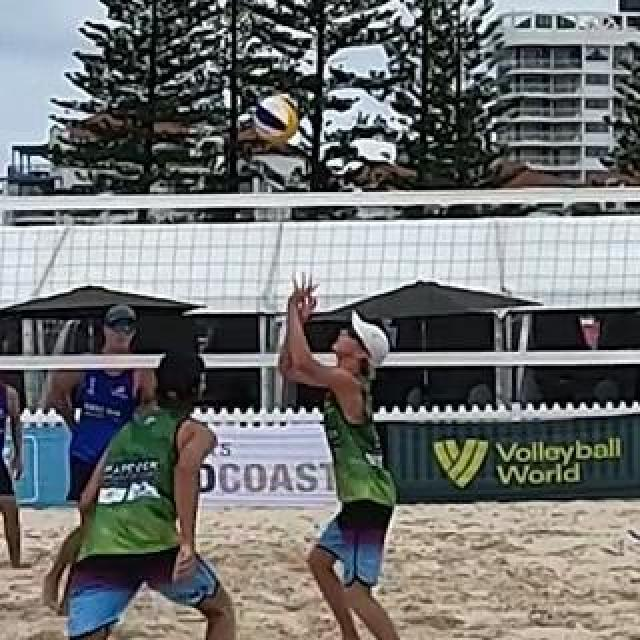volleyball: (256, 97, 300, 145)
